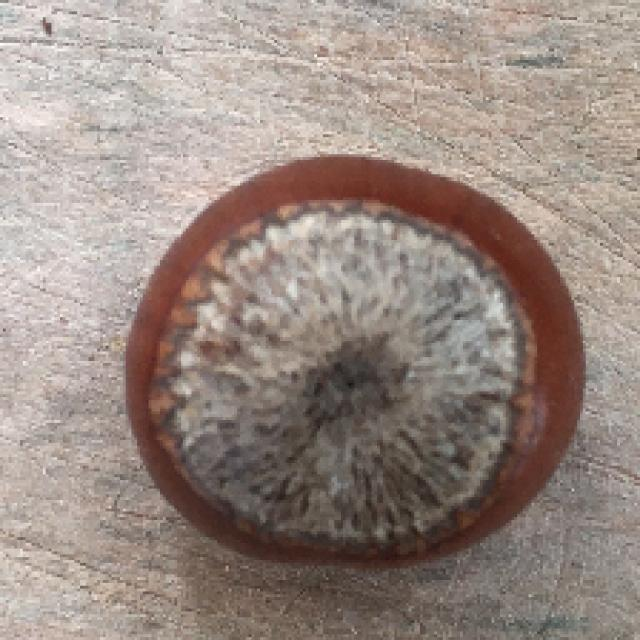qualityHazelnut: (127, 155, 581, 564)
